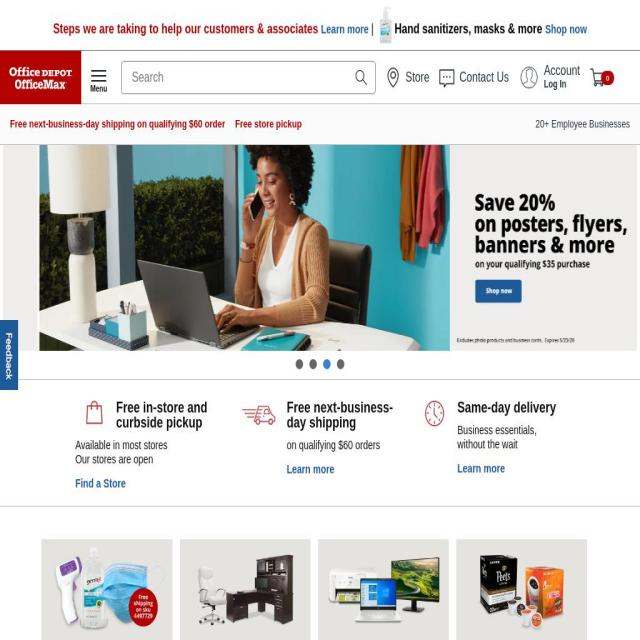button: (3, 145, 637, 352), (5, 104, 231, 144), (0, 51, 81, 104), (434, 51, 514, 104), (530, 104, 636, 144), (514, 51, 585, 104), (230, 104, 307, 144), (380, 51, 435, 104), (585, 51, 630, 104), (0, 320, 18, 390), (75, 472, 126, 496), (456, 457, 506, 481), (286, 458, 334, 482), (82, 61, 116, 94), (0, 145, 3, 352), (637, 145, 640, 352), (309, 359, 317, 369), (323, 359, 331, 369), (296, 359, 303, 369), (337, 359, 344, 369)
field: (122, 62, 347, 93)
image: (3, 145, 637, 352), (456, 539, 588, 640), (41, 539, 172, 640), (317, 539, 448, 640), (180, 539, 310, 640), (8, 61, 74, 94), (412, 400, 447, 438), (71, 400, 105, 438), (242, 400, 276, 438), (0, 320, 18, 390), (0, 145, 3, 352), (637, 145, 640, 352), (379, 7, 392, 43), (521, 67, 537, 88), (353, 68, 369, 88), (385, 68, 401, 88), (439, 68, 455, 88), (590, 68, 605, 88)
link: (394, 22, 544, 36), (235, 118, 303, 130), (545, 22, 587, 36)
text: (115, 400, 224, 438), (286, 400, 394, 438), (52, 22, 322, 36), (457, 423, 565, 457), (10, 118, 225, 130), (457, 400, 565, 423), (286, 438, 394, 458), (75, 438, 168, 452), (75, 452, 154, 466), (460, 70, 510, 85), (321, 22, 368, 36), (544, 64, 580, 78), (544, 78, 580, 92), (405, 70, 430, 85), (85, 85, 113, 93), (370, 22, 380, 36), (606, 74, 610, 83)
